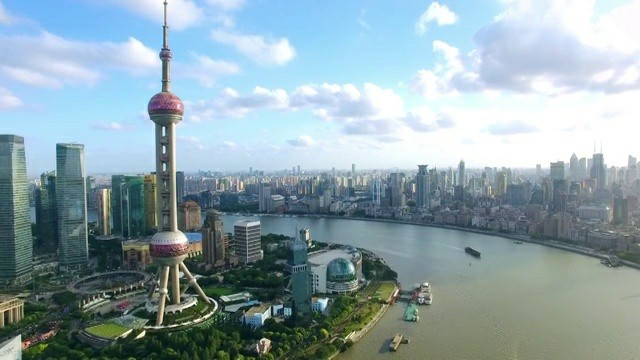Oriental: (146, 1, 210, 326)
